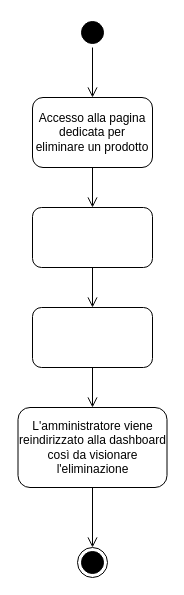
This 184x595 diagram has some shape labels left out. Here are the shapes that lost their labels. From the top down, the centre of each, then its label:
At (92,237): "L'amministratore seleziona il prodotto da eliminare".
At (92,337): "Il sistema elimina il prodotto selezionato".
